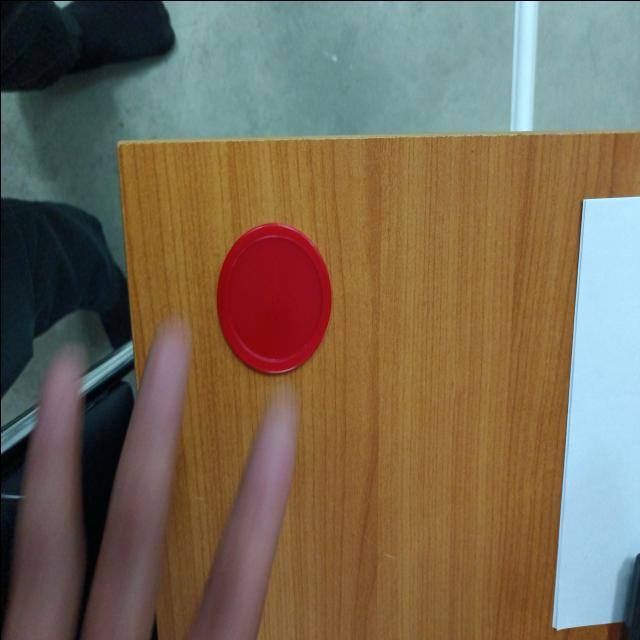chip: (216, 222, 332, 376)
